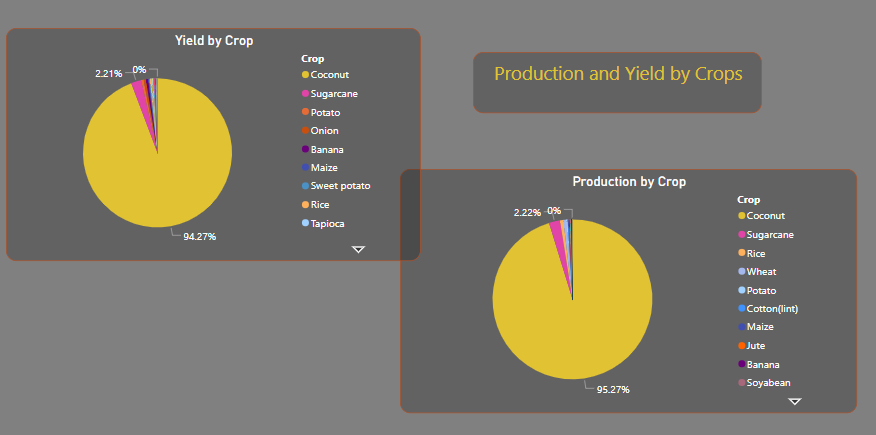

Layout of this report page (visuals, bound fields, positions):
{"tool":"powerbi","page":{"name":"Page 4","canvas":[1280,720],"ordinal":3},"visuals":[{"type":"pieChart","title":"Production by Crop","fields":{"Category":["India Crop Production.Crop"],"Y":["Sum(India Crop Production.Production)"]},"box":[583.5,310.4,656.8,350.7],"z":0},{"type":"pieChart","title":"Yield by Crop","fields":{"Category":["India Crop Production.Crop"],"Y":["Sum(India Crop Production.Yield)"]},"box":[17.2,107.8,596.4,334.9],"z":1000},{"type":"textbox","box":[688.4,142.3,415.3,87.7],"z":2000}]}

Visuals, with their boxes on the page's 1280x720 design canvas (x1, y1, x2, y2). These are canvas units, not pixel positions in the 876x435 screenshot, which may show the page scaled, cropped or inside an application window:
"Production by Crop" pieChart: rect(584, 310, 1240, 661)
"Yield by Crop" pieChart: rect(17, 108, 614, 443)
textbox: rect(688, 142, 1104, 230)
